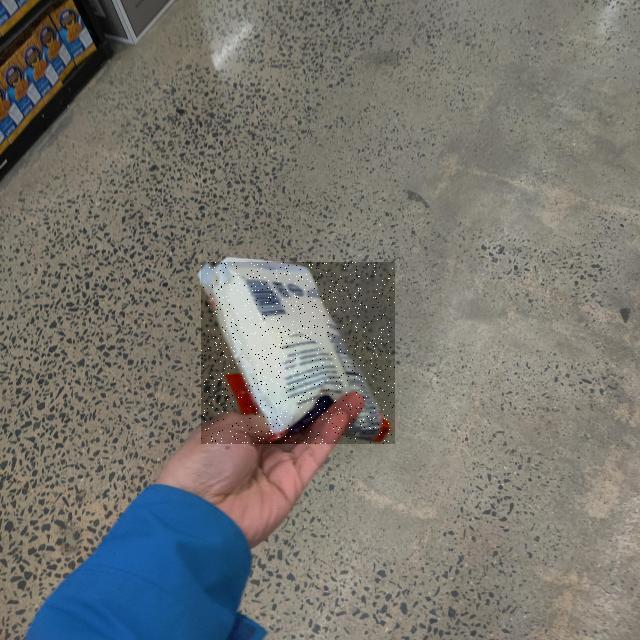Cheese: (201, 262, 395, 444)
